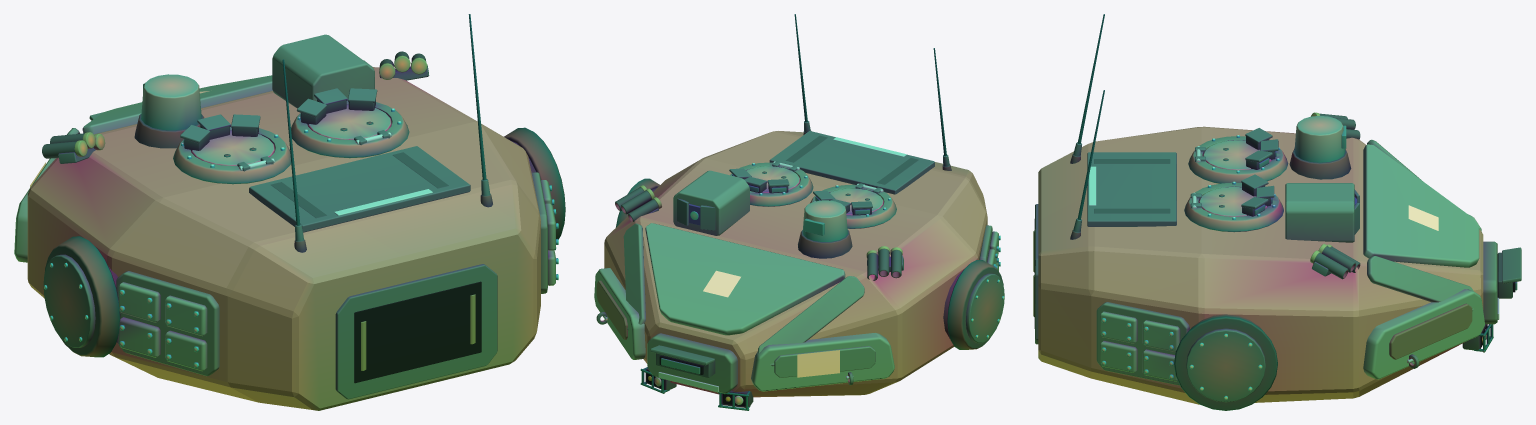
File: core_m1a2_sepv3.glb
3 renders of one model, left to right at view 1: azimuth 30°, elevation 25°; view 2: azimuth 150°, elevation 25°; view 3: azimuth 270°, elevation 25°, orthographic. The views are drawn at different scales.
Visible parts, largest first — view 1: Body__armor_sub, Body__gunmetal, Body__armor, Body__dark, Body__bore, Body__brass, Body__chrome, Body__copper, Body__hazard; view 2: Body__armor_sub, Body__armor, Body__gunmetal, Body__dark, Body__decal, Body__glass, Body__armor_oxide, Body__hazard, Body__chrome, Body__bore; view 3: Body__armor_sub, Body__armor, Body__gunmetal, Body__dark, Body__armor_oxide, Body__chrome, Body__decal.
Boxes of the visible parts, x1=… form: Body__armor_sub: x1=27, y1=34, x2=547, y2=410; Body__gunmetal: x1=43, y1=65, x2=497, y2=399; Body__armor: x1=14, y1=74, x2=555, y2=371; Body__dark: x1=42, y1=14, x2=565, y2=357; Body__bore: x1=354, y1=281, x2=481, y2=383; Body__brass: x1=74, y1=55, x2=427, y2=156; Body__chrome: x1=44, y1=108, x2=558, y2=367; Body__copper: x1=361, y1=294, x2=475, y2=370; Body__hazard: x1=334, y1=189, x2=432, y2=215; Body__armor_sub: x1=604, y1=131, x2=992, y2=397; Body__armor: x1=594, y1=166, x2=998, y2=391; Body__gunmetal: x1=596, y1=121, x2=1004, y2=410; Body__dark: x1=615, y1=14, x2=1003, y2=407; Body__decal: x1=703, y1=270, x2=839, y2=377; Body__glass: x1=661, y1=174, x2=869, y2=374; Body__armor_oxide: x1=596, y1=280, x2=627, y2=339; Body__hazard: x1=658, y1=137, x2=906, y2=392; Body__chrome: x1=603, y1=161, x2=1004, y2=379; Body__bore: x1=646, y1=355, x2=745, y2=406; Body__armor_sub: x1=1038, y1=126, x2=1497, y2=404; Body__armor: x1=1100, y1=116, x2=1484, y2=381; Body__gunmetal: x1=1035, y1=128, x2=1521, y2=402; Body__dark: x1=1070, y1=14, x2=1512, y2=410; Body__armor_oxide: x1=1389, y1=303, x2=1472, y2=359; Body__chrome: x1=1101, y1=135, x2=1413, y2=399; Body__decal: x1=1408, y1=205, x2=1438, y2=230.
Bounding box in the file's own units: 2.25 × 1.65 × 2.39.
